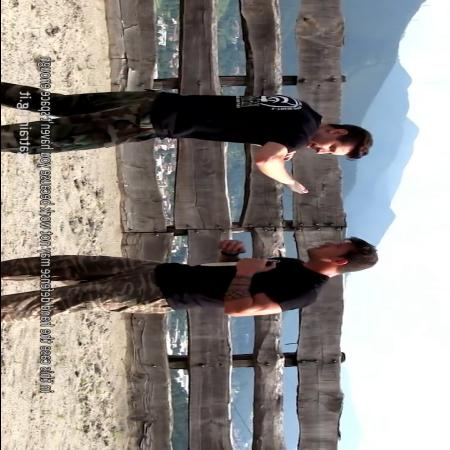long weapon: (196, 257, 282, 275)
